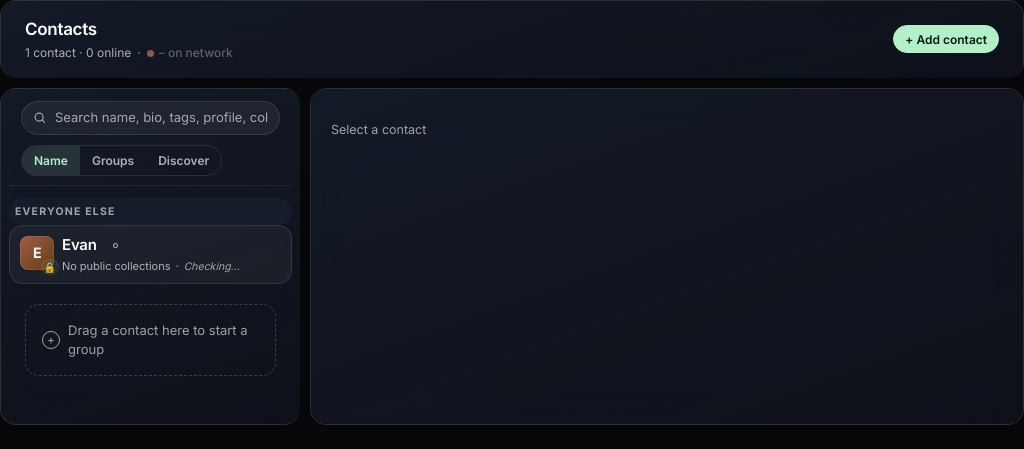
Test case: QURATOR-351 state d — size on the row, Looking-for on the detail › a contact who published no looking_for renders no Looking-for block at all
Note: QURATOR-368b: row click selects into the pane (held 250 ms).
What coordinates should you click on to do the following:
click the option with class "contact-card"
I would click on:
 (37, 253)
Its box is [9,226,292,284].
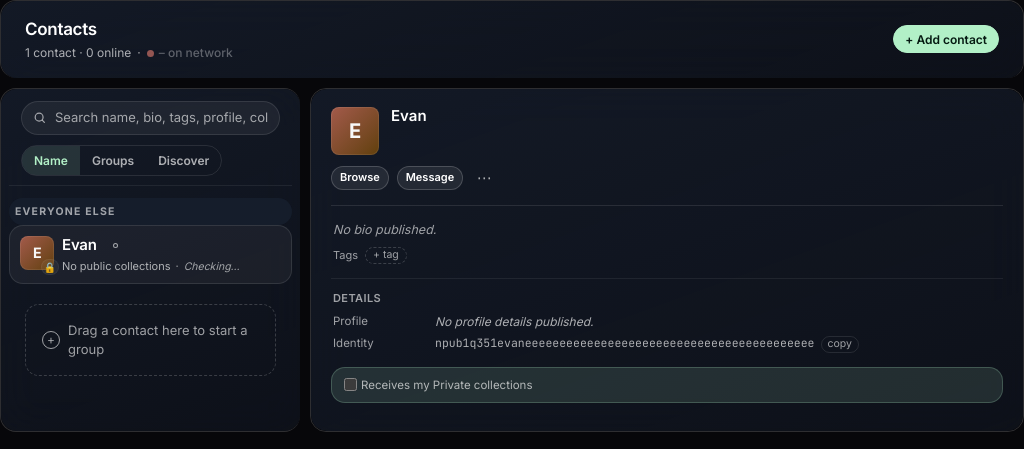
Expected: the text "No bio published." is shown, [333,222,436,237]
